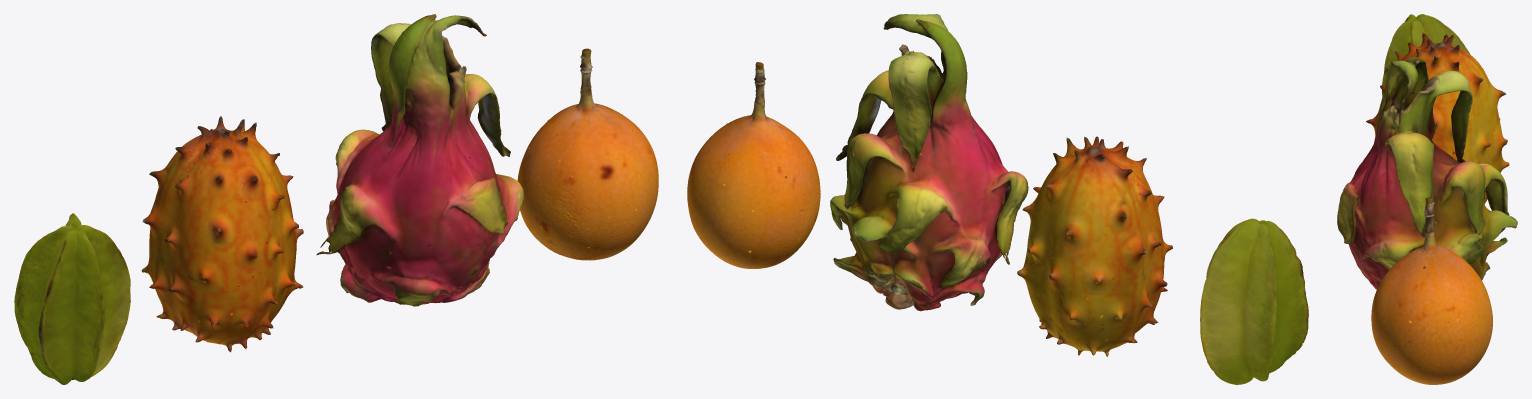
File: fruits-v4.glb
3 renders of one model, left to right at view 1: azimuth 30°, elevation 25°; view 2: azimuth 150°, elevation 25°; view 3: azimuth 270°, elevation 25°, orthographic. The views are drawn at different scales.
Parts seen in each view (by area): view 1: Object_5, Object_4, Object_2, Object_3; view 2: Object_5, Object_4, Object_2, Object_3; view 3: Object_5, Object_2, Object_4, Object_3.
Part boxes in pixels (<box>): Object_5: <box>316,14,523,306</box>; Object_4: <box>141,116,303,352</box>; Object_2: <box>517,48,658,260</box>; Object_3: <box>14,213,130,384</box>; Object_5: <box>830,14,1028,311</box>; Object_4: <box>1017,136,1172,356</box>; Object_2: <box>687,62,820,268</box>; Object_3: <box>1200,218,1308,384</box>; Object_5: <box>1337,57,1517,289</box>; Object_2: <box>1371,197,1492,384</box>; Object_4: <box>1366,32,1509,203</box>; Object_3: <box>1382,14,1470,96</box>.
Size of the model in its own units: 5.07 by 2.24 by 1.46.
4 materials, 4 textured.
